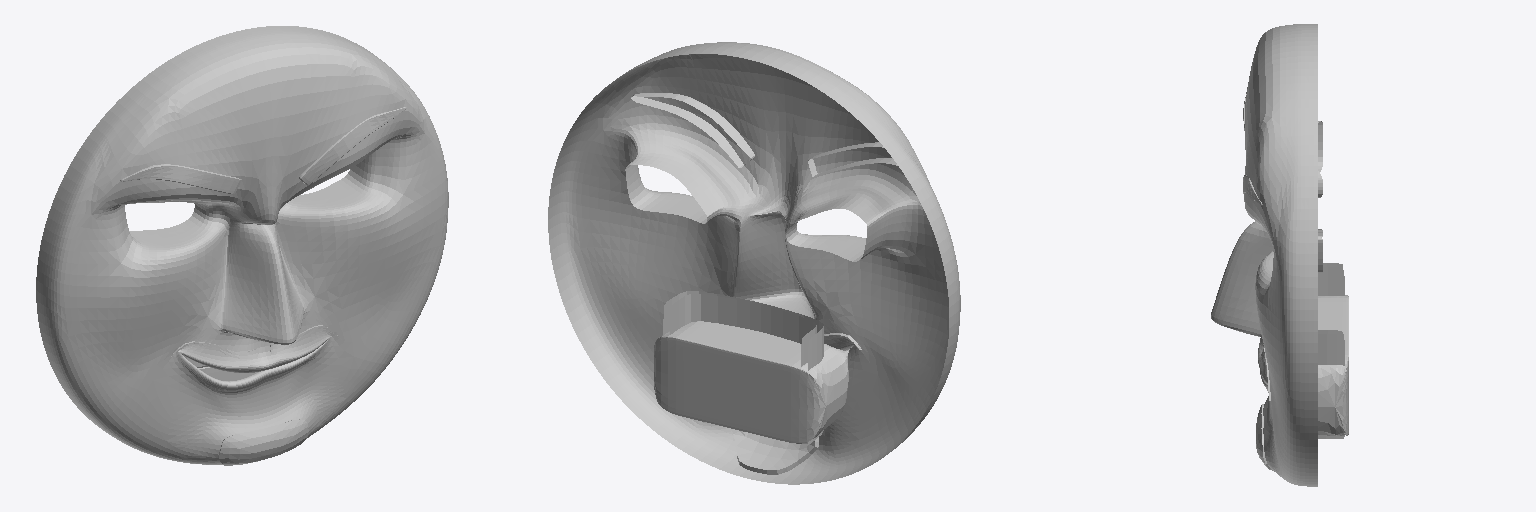
Rendered from Cocky.obj.
3 renders of one model, left to right at view 1: azimuth 30°, elevation 25°; view 2: azimuth 150°, elevation 25°; view 3: azimuth 270°, elevation 25°, orthographic.
Parts seen in each view (by area): view 1: Circle.018_Circle.028; view 2: Circle.018_Circle.028; view 3: Circle.018_Circle.028.
Boxes of the visible parts, box(x1,y1,x2,y2) form: Circle.018_Circle.028: box(36, 26, 448, 465); Circle.018_Circle.028: box(548, 42, 960, 484); Circle.018_Circle.028: box(1211, 24, 1348, 486).
Bounding box in the file's own units: 50.64 × 50.76 × 15.12.